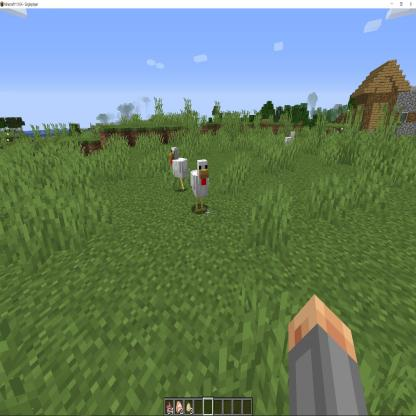minecraft-pigs: (191, 161, 211, 210), (168, 143, 188, 192), (285, 130, 298, 158)
